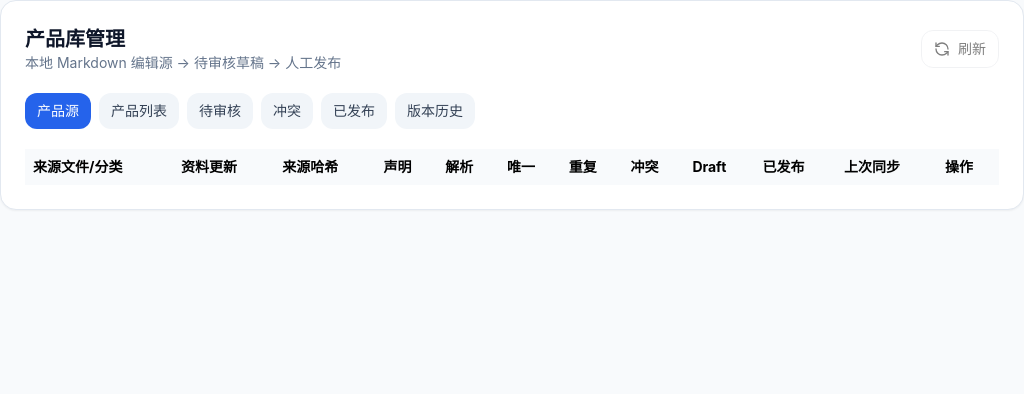
LocalProductCatalogSection › filters product list by code
The width and height of the screenshot is (1024, 394).
Click the button "产品列表" at coordinates (139, 111), box top-left (99, 93), bottom-right (179, 129)
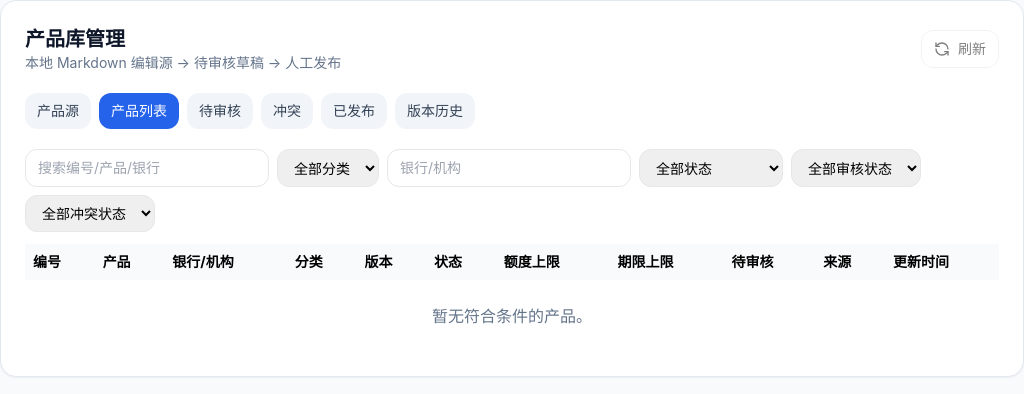
Type "BOCOM-001" into the field named "搜索产品" at coordinates (147, 168), box top-left (25, 149), bottom-right (269, 187)
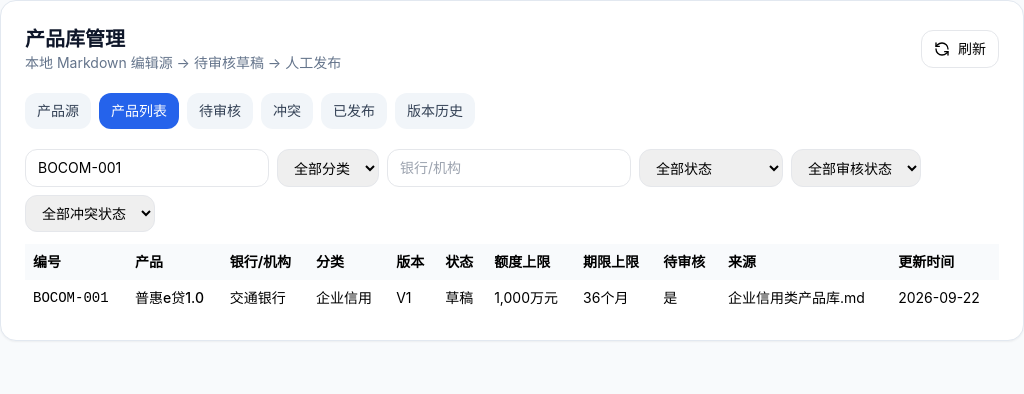
Result: the text "BOCOM-001" is shown at top-left (25, 280), bottom-right (127, 316)
